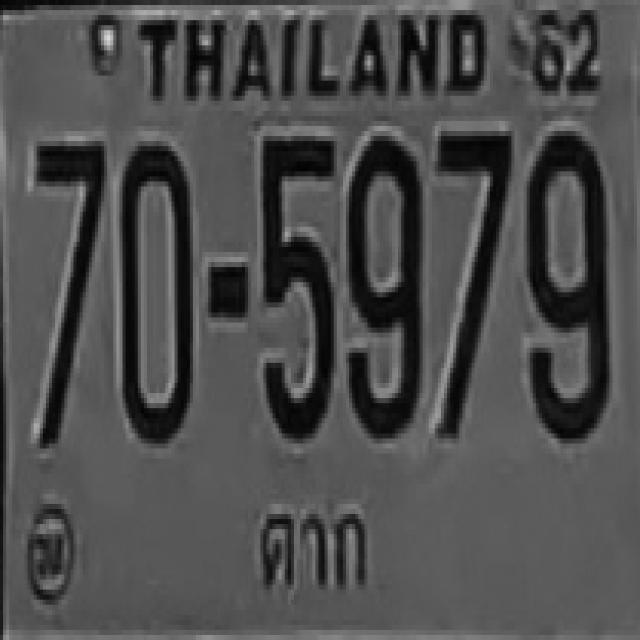Tak: (226, 472, 398, 624)
